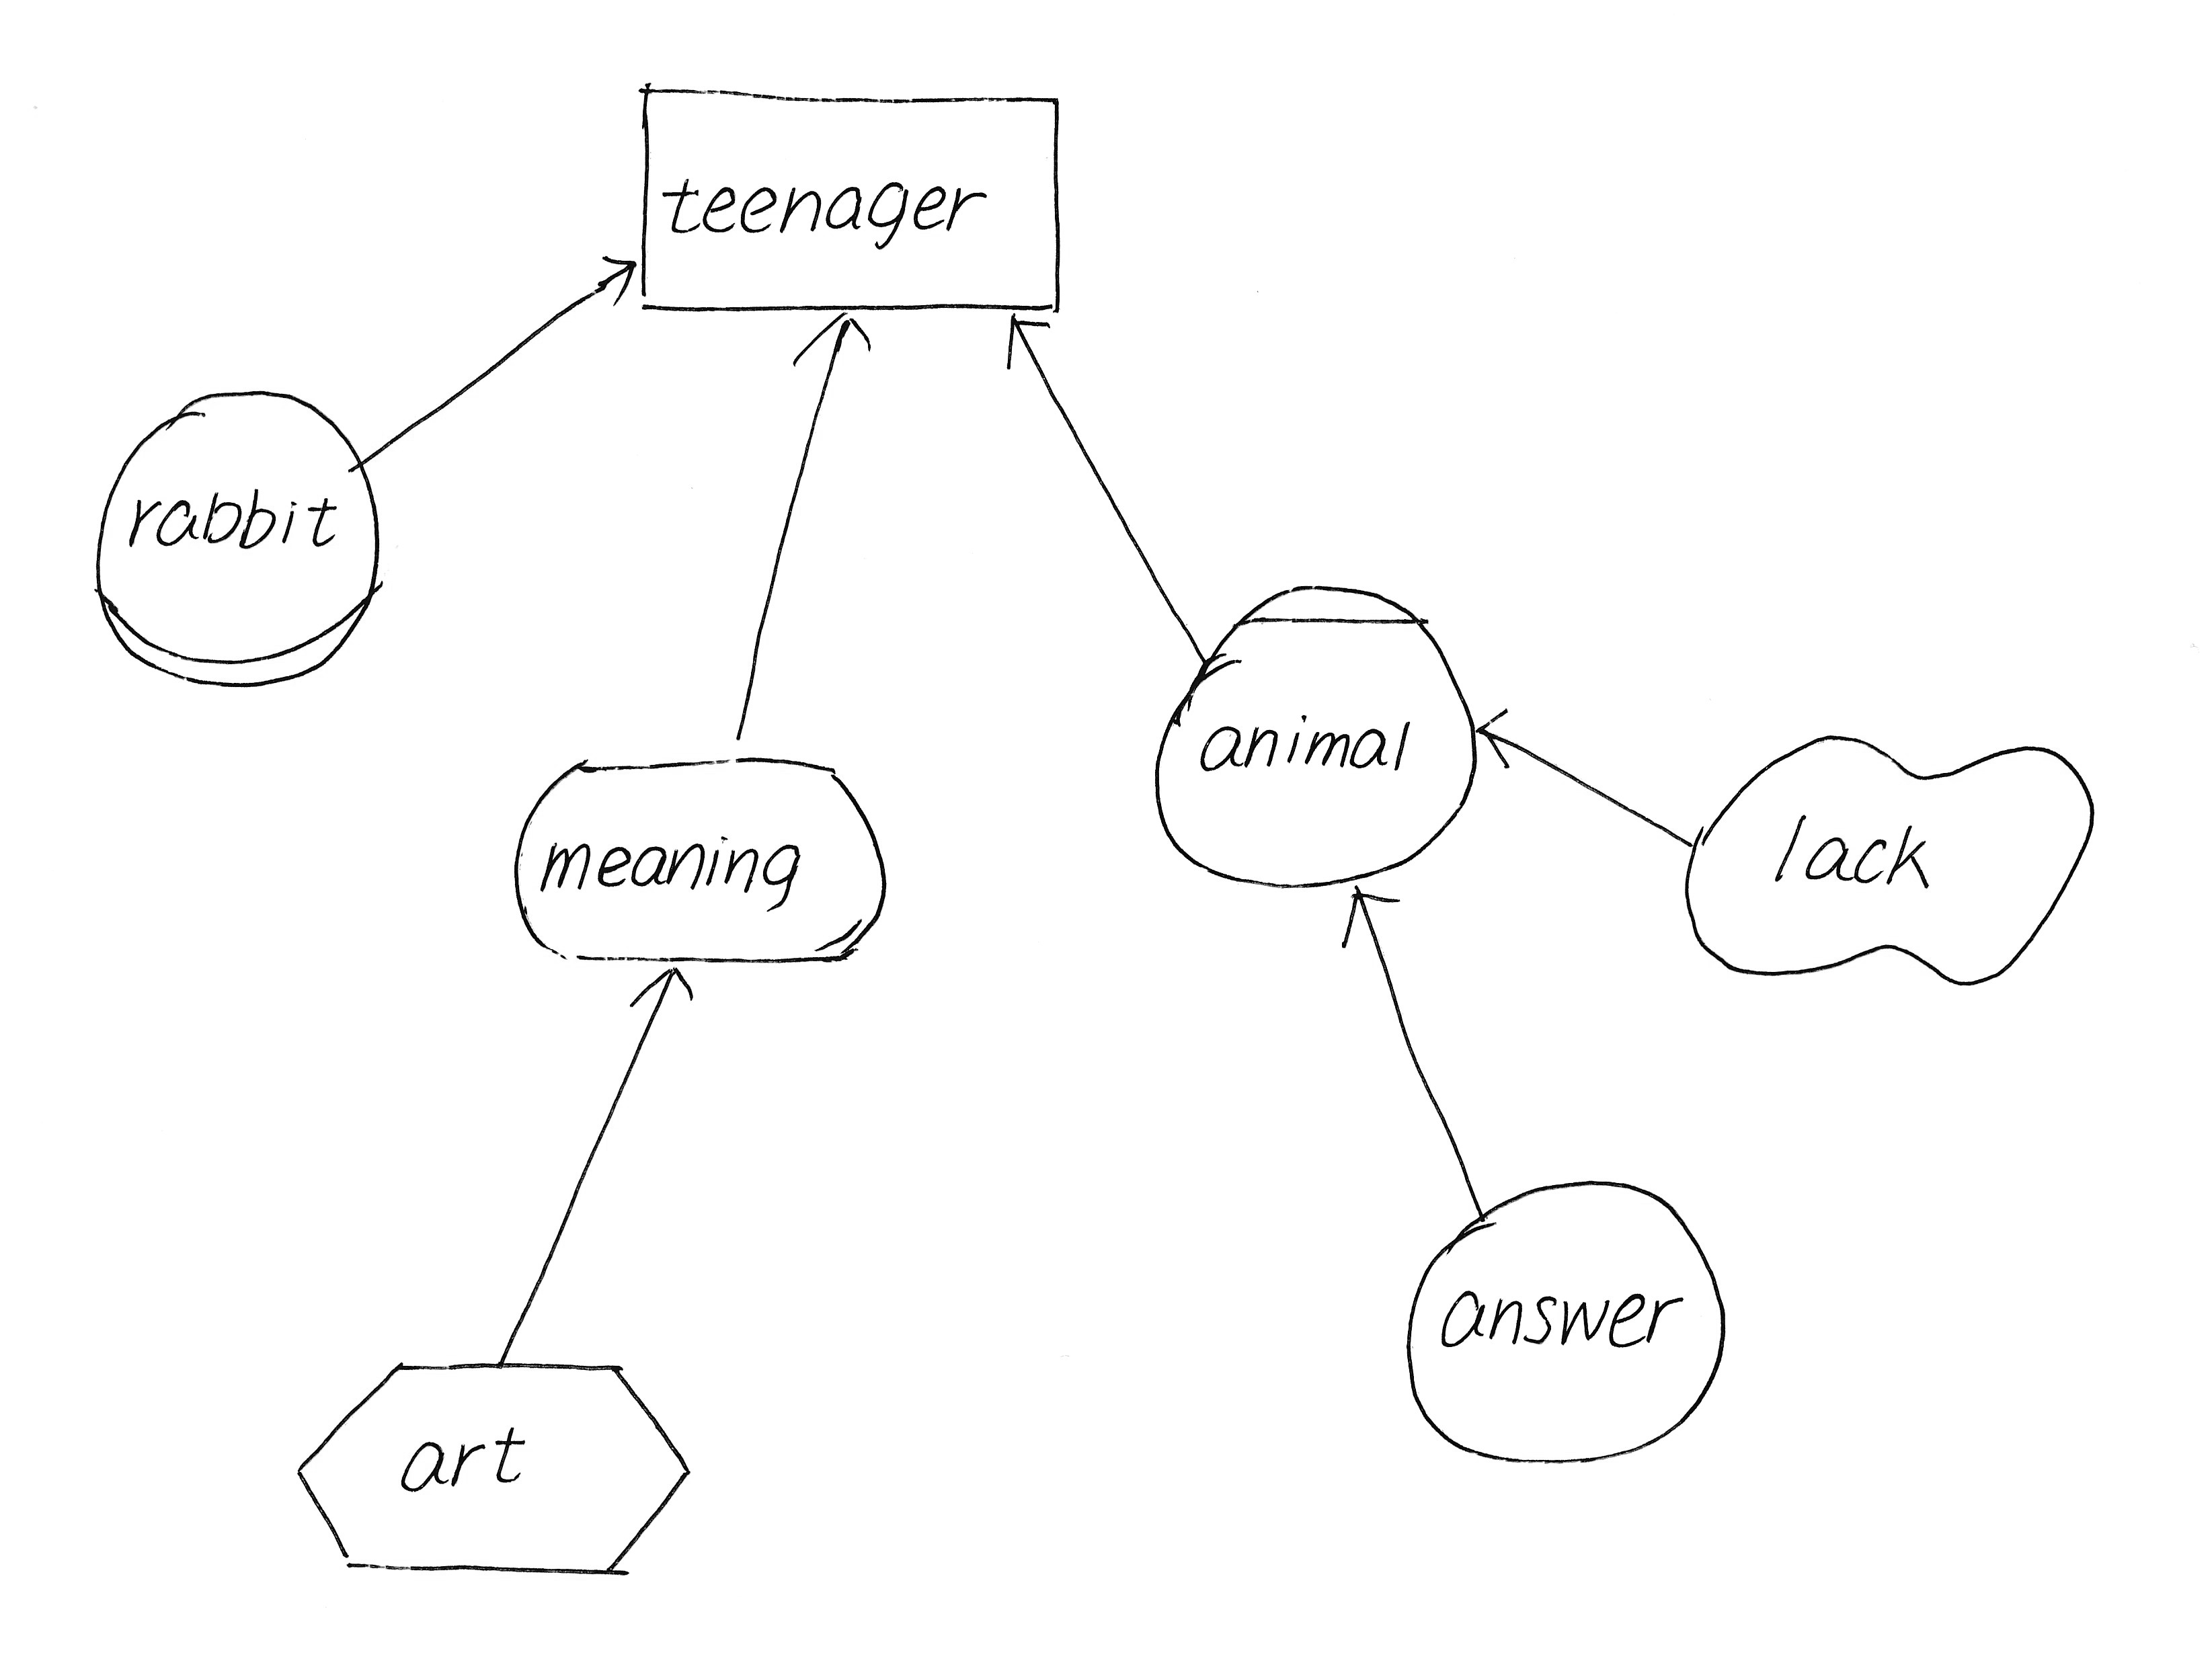actor: (1387, 1164, 1746, 1480)
agent: (1135, 562, 1492, 904)
arrow: (785, 296, 883, 382), (1322, 877, 1413, 967), (1461, 699, 1531, 783), (993, 294, 1060, 378), (625, 960, 706, 1019), (590, 243, 657, 315)
goal: (499, 737, 904, 984)
quality: (1662, 720, 2116, 1000)
resource: (620, 68, 1084, 340)
role: (70, 373, 398, 706)
task: (271, 1341, 701, 1600)
